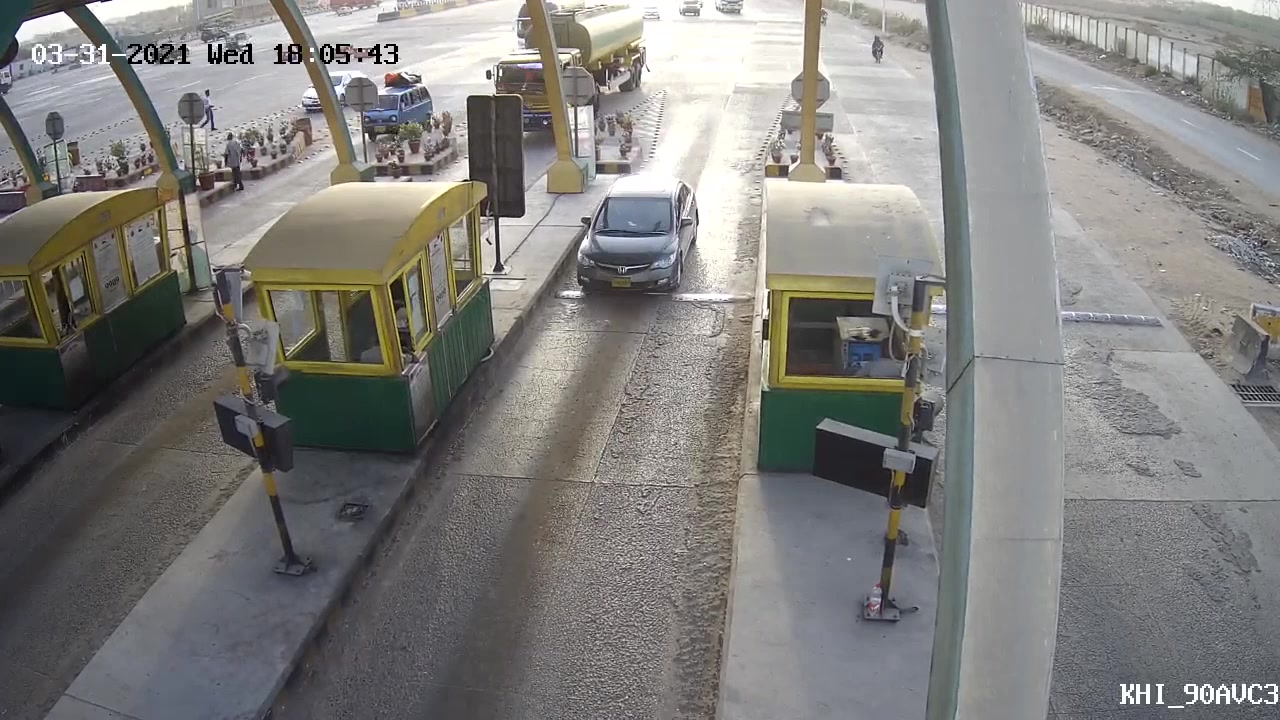F1: (565, 166, 709, 309)
